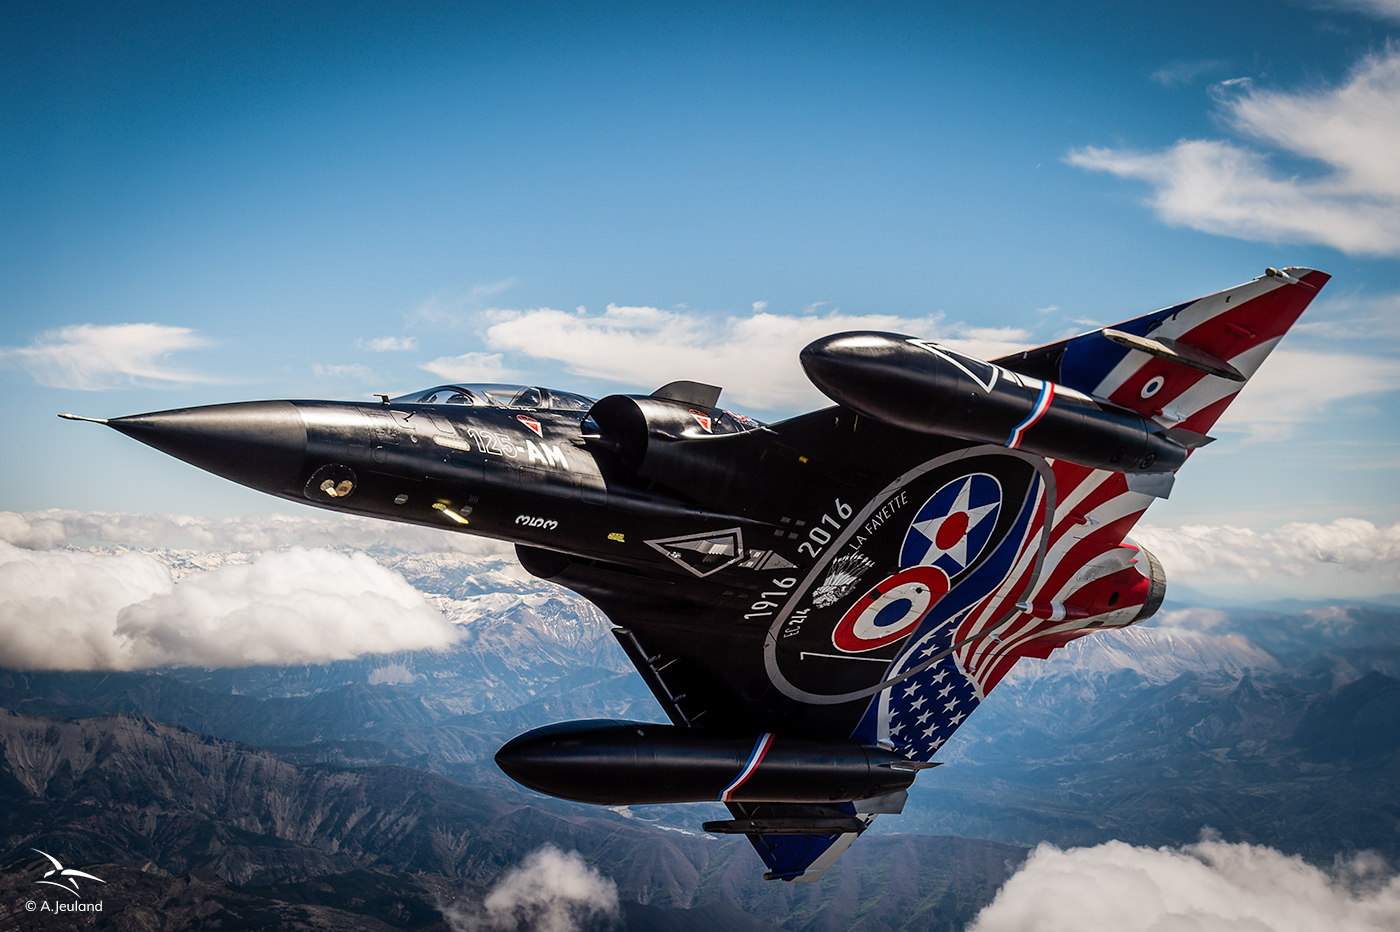Mirage2000: (57, 266, 1333, 883)
